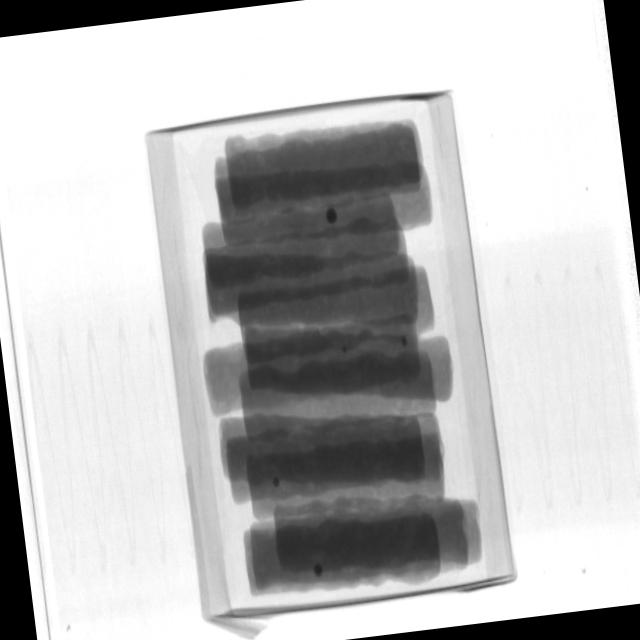ym: (327, 207, 339, 224), (400, 332, 409, 350), (315, 563, 325, 577), (272, 477, 281, 487), (342, 345, 348, 355)
